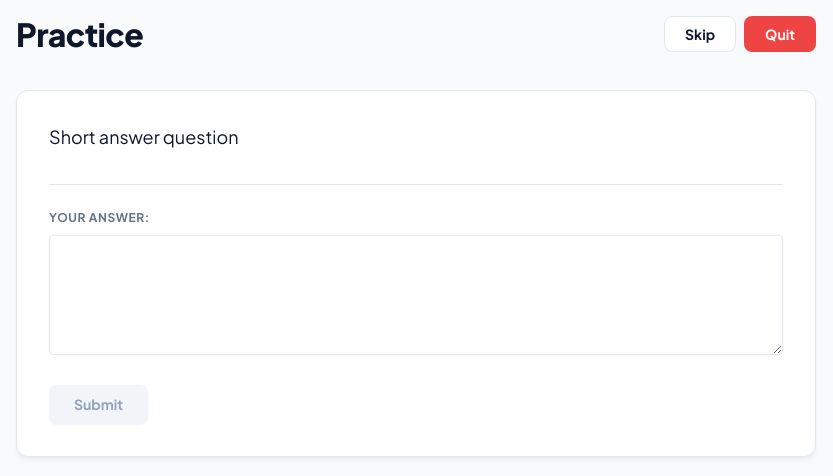
Test: ActivePracticePage › shows pending-review when VLM fails
Expected: the button with test id "submit-button" is shown, [49,385,148,424]
Type "my answer" into the text box at (416, 295), box [49,235,783,355]
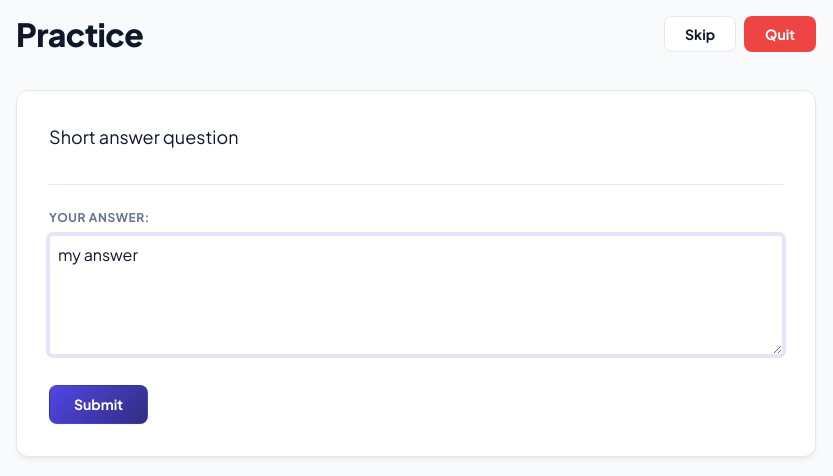
Click the button with test id "submit-button" at (98, 404), box [49,385,148,424]
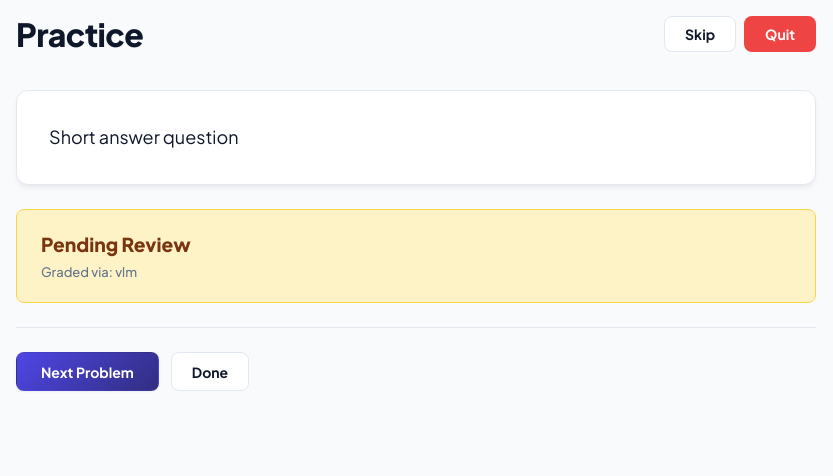
Now the element with test id "grading-feedback" is shown, box [16,209,816,303]
Now the text "Pending Review" is shown, box [41,232,191,256]
